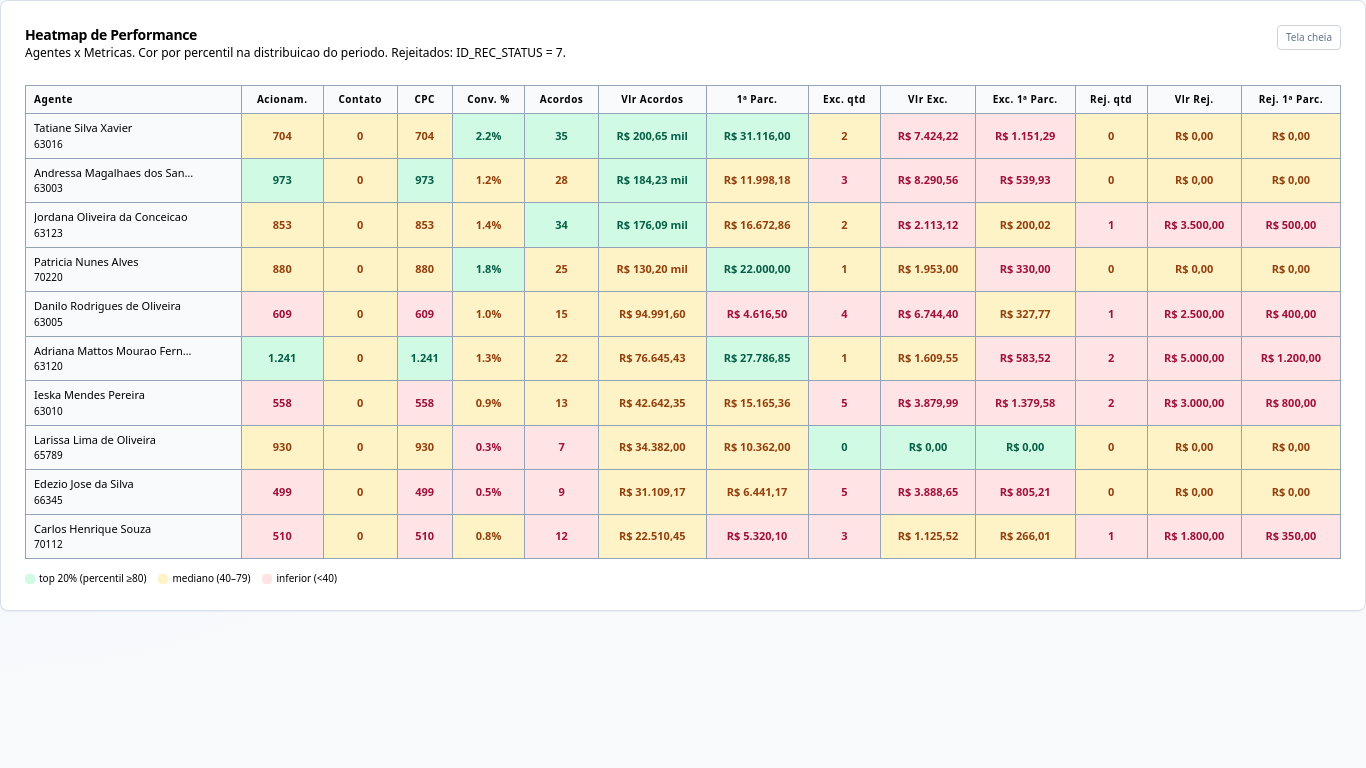
Test: PerformanceHeatmap › cycles sort indicator on header click
Click the button with test id "sort-valorAcordos": (652, 100) [621, 92, 683, 107]
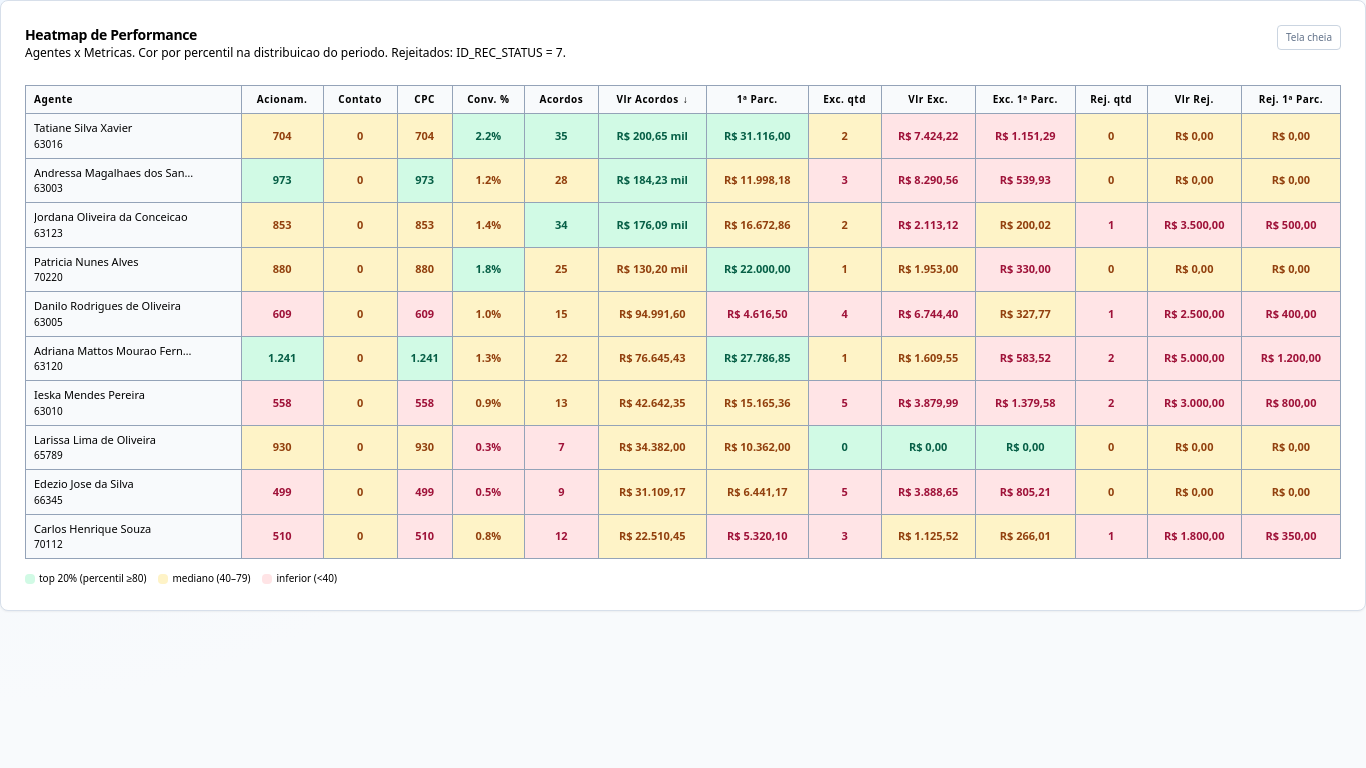
Result: the text "↓" is shown at [683, 92, 688, 107]
